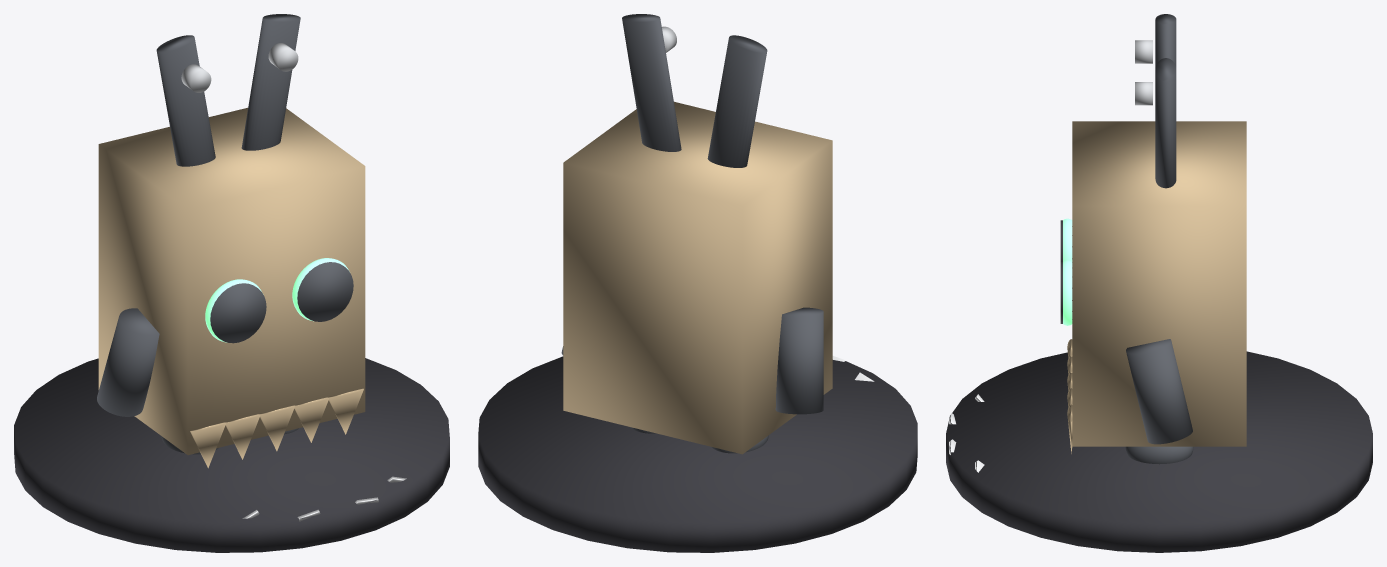
The model's file is bagboo_fanmade.glb.
3 views of the same model, side by side, from view 1: azimuth 30°, elevation 25°; view 2: azimuth 150°, elevation 25°; view 3: azimuth 270°, elevation 25° (orthographic). The views are drawn at different scales.
Parts seen in each view (by area): view 1: Bagboo_PaperBag, Bagboo_Pedestal, Bagboo_Ear_L, Bagboo_Ear_R, Bagboo_Arm_L, 圓柱體.001, 圓柱體, Bagboo_Teeth_4, Bagboo_Teeth_0, Bagboo_Teeth_2, Bagboo_Teeth_1, Bagboo_Teeth_3 (+2 smaller); view 2: Bagboo_PaperBag, Bagboo_Pedestal, Bagboo_Ear_R, Bagboo_Ear_L, Bagboo_Arm_L; view 3: Bagboo_Pedestal, Bagboo_PaperBag, Bagboo_Arm_R, Bagboo_Ear_R, 球體.001, Bagboo_Ear_L, Bagboo_Eye_R.
Part boxes in pixels (x1=…): Bagboo_PaperBag: x1=98, y1=107, x2=365, y2=455; Bagboo_Pedestal: x1=14, y1=358, x2=449, y2=552; Bagboo_Ear_L: x1=156, y1=35, x2=215, y2=166; Bagboo_Ear_R: x1=241, y1=14, x2=300, y2=150; Bagboo_Arm_L: x1=97, y1=308, x2=159, y2=416; 圓柱體.001: x1=297, y1=262, x2=353, y2=321; 圓柱體: x1=210, y1=283, x2=266, y2=343; Bagboo_Teeth_4: x1=327, y1=388, x2=363, y2=434; Bagboo_Teeth_0: x1=190, y1=422, x2=226, y2=468; Bagboo_Teeth_2: x1=259, y1=405, x2=295, y2=451; Bagboo_Teeth_1: x1=225, y1=414, x2=260, y2=459; Bagboo_Teeth_3: x1=294, y1=397, x2=328, y2=442; Bagboo_PaperBag: x1=563, y1=101, x2=832, y2=454; Bagboo_Pedestal: x1=478, y1=356, x2=917, y2=552; Bagboo_Ear_R: x1=622, y1=14, x2=681, y2=151; Bagboo_Ear_L: x1=707, y1=35, x2=767, y2=167; Bagboo_Arm_L: x1=775, y1=307, x2=823, y2=414; Bagboo_Pedestal: x1=946, y1=351, x2=1372, y2=552; Bagboo_PaperBag: x1=1072, y1=121, x2=1246, y2=446; Bagboo_Arm_R: x1=1126, y1=339, x2=1192, y2=444; Bagboo_Ear_R: x1=1155, y1=58, x2=1176, y2=188; 球體.001: x1=1125, y1=446, x2=1193, y2=464; Bagboo_Ear_L: x1=1155, y1=14, x2=1176, y2=69; Bagboo_Eye_R: x1=1063, y1=260, x2=1072, y2=325.
Bounding box in the file's own units: 3.3 × 3.59 × 3.3.
